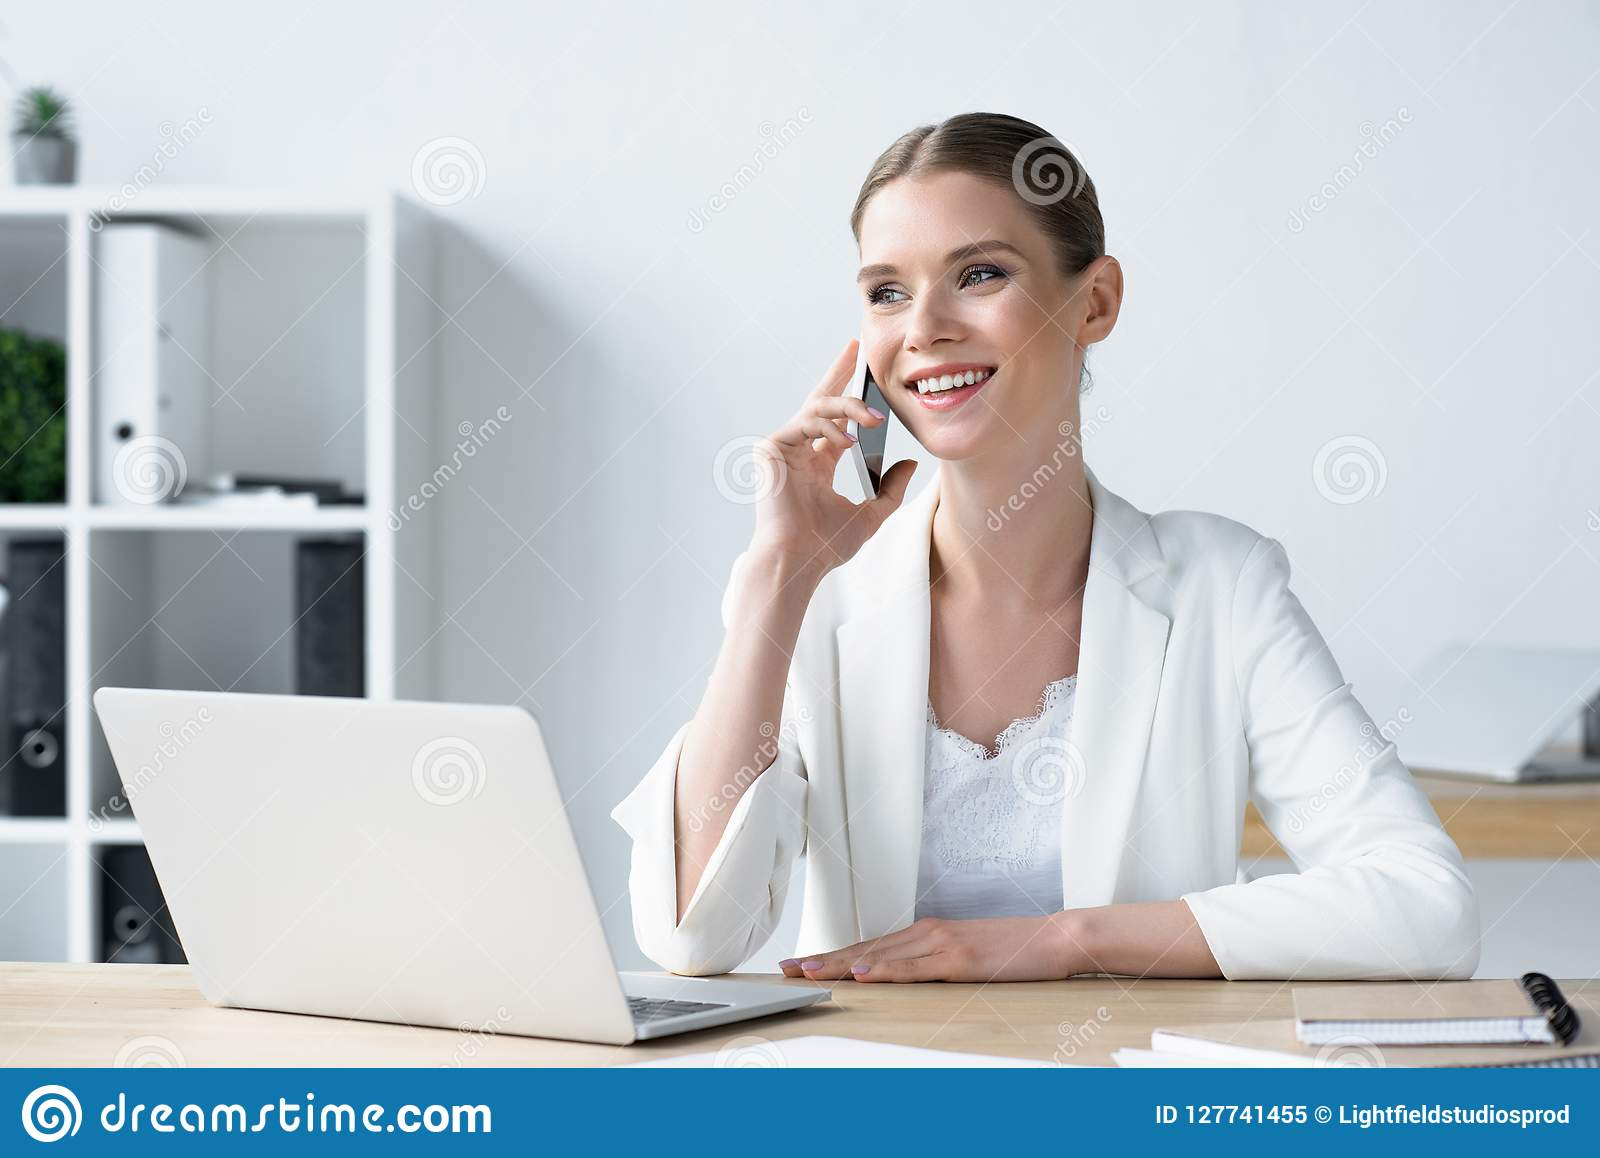phone: (847, 338, 891, 508)
talk: (737, 239, 1052, 608)
